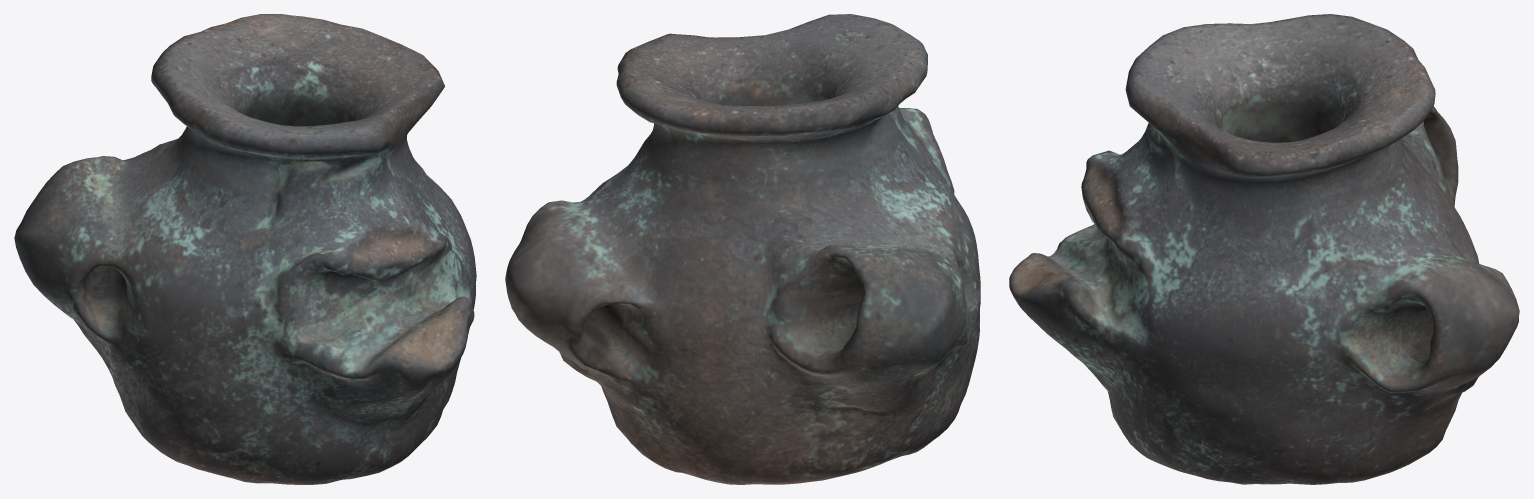
Rendered from clay_artifact_3d_scan.glb.
The picture shows the model from 3 angles, left to right: view 1: azimuth 30°, elevation 25°; view 2: azimuth 150°, elevation 25°; view 3: azimuth 270°, elevation 25°; orthographic projection. The views are drawn at different scales.
Visible parts, largest first — view 1: Artifact; view 2: Artifact; view 3: Artifact.
Part boxes in pixels (bbox=[...]): Artifact: bbox=[14, 14, 476, 484]; Artifact: bbox=[505, 14, 980, 484]; Artifact: bbox=[1009, 14, 1519, 484].
Size of the model in its own units: 0.0304 by 0.0271 by 0.0335.
Materials: 1 (1 with a texture image).
